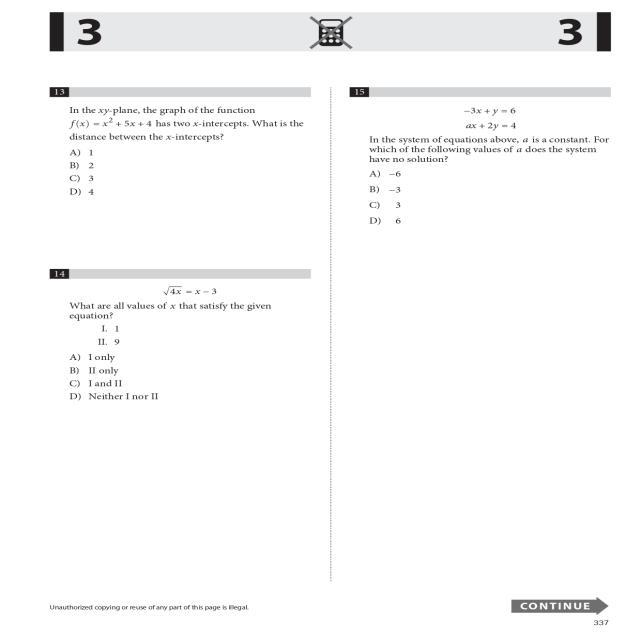Answer_Block: (338, 165, 625, 233), (38, 142, 322, 204), (38, 352, 322, 411)
Question_Answer_Block: (338, 82, 625, 234), (38, 268, 322, 412), (38, 82, 322, 204)
Question_Block: (338, 82, 625, 166), (38, 268, 322, 350), (38, 82, 322, 143)
Question_Paper_Area: (338, 81, 625, 582), (38, 82, 322, 580)
